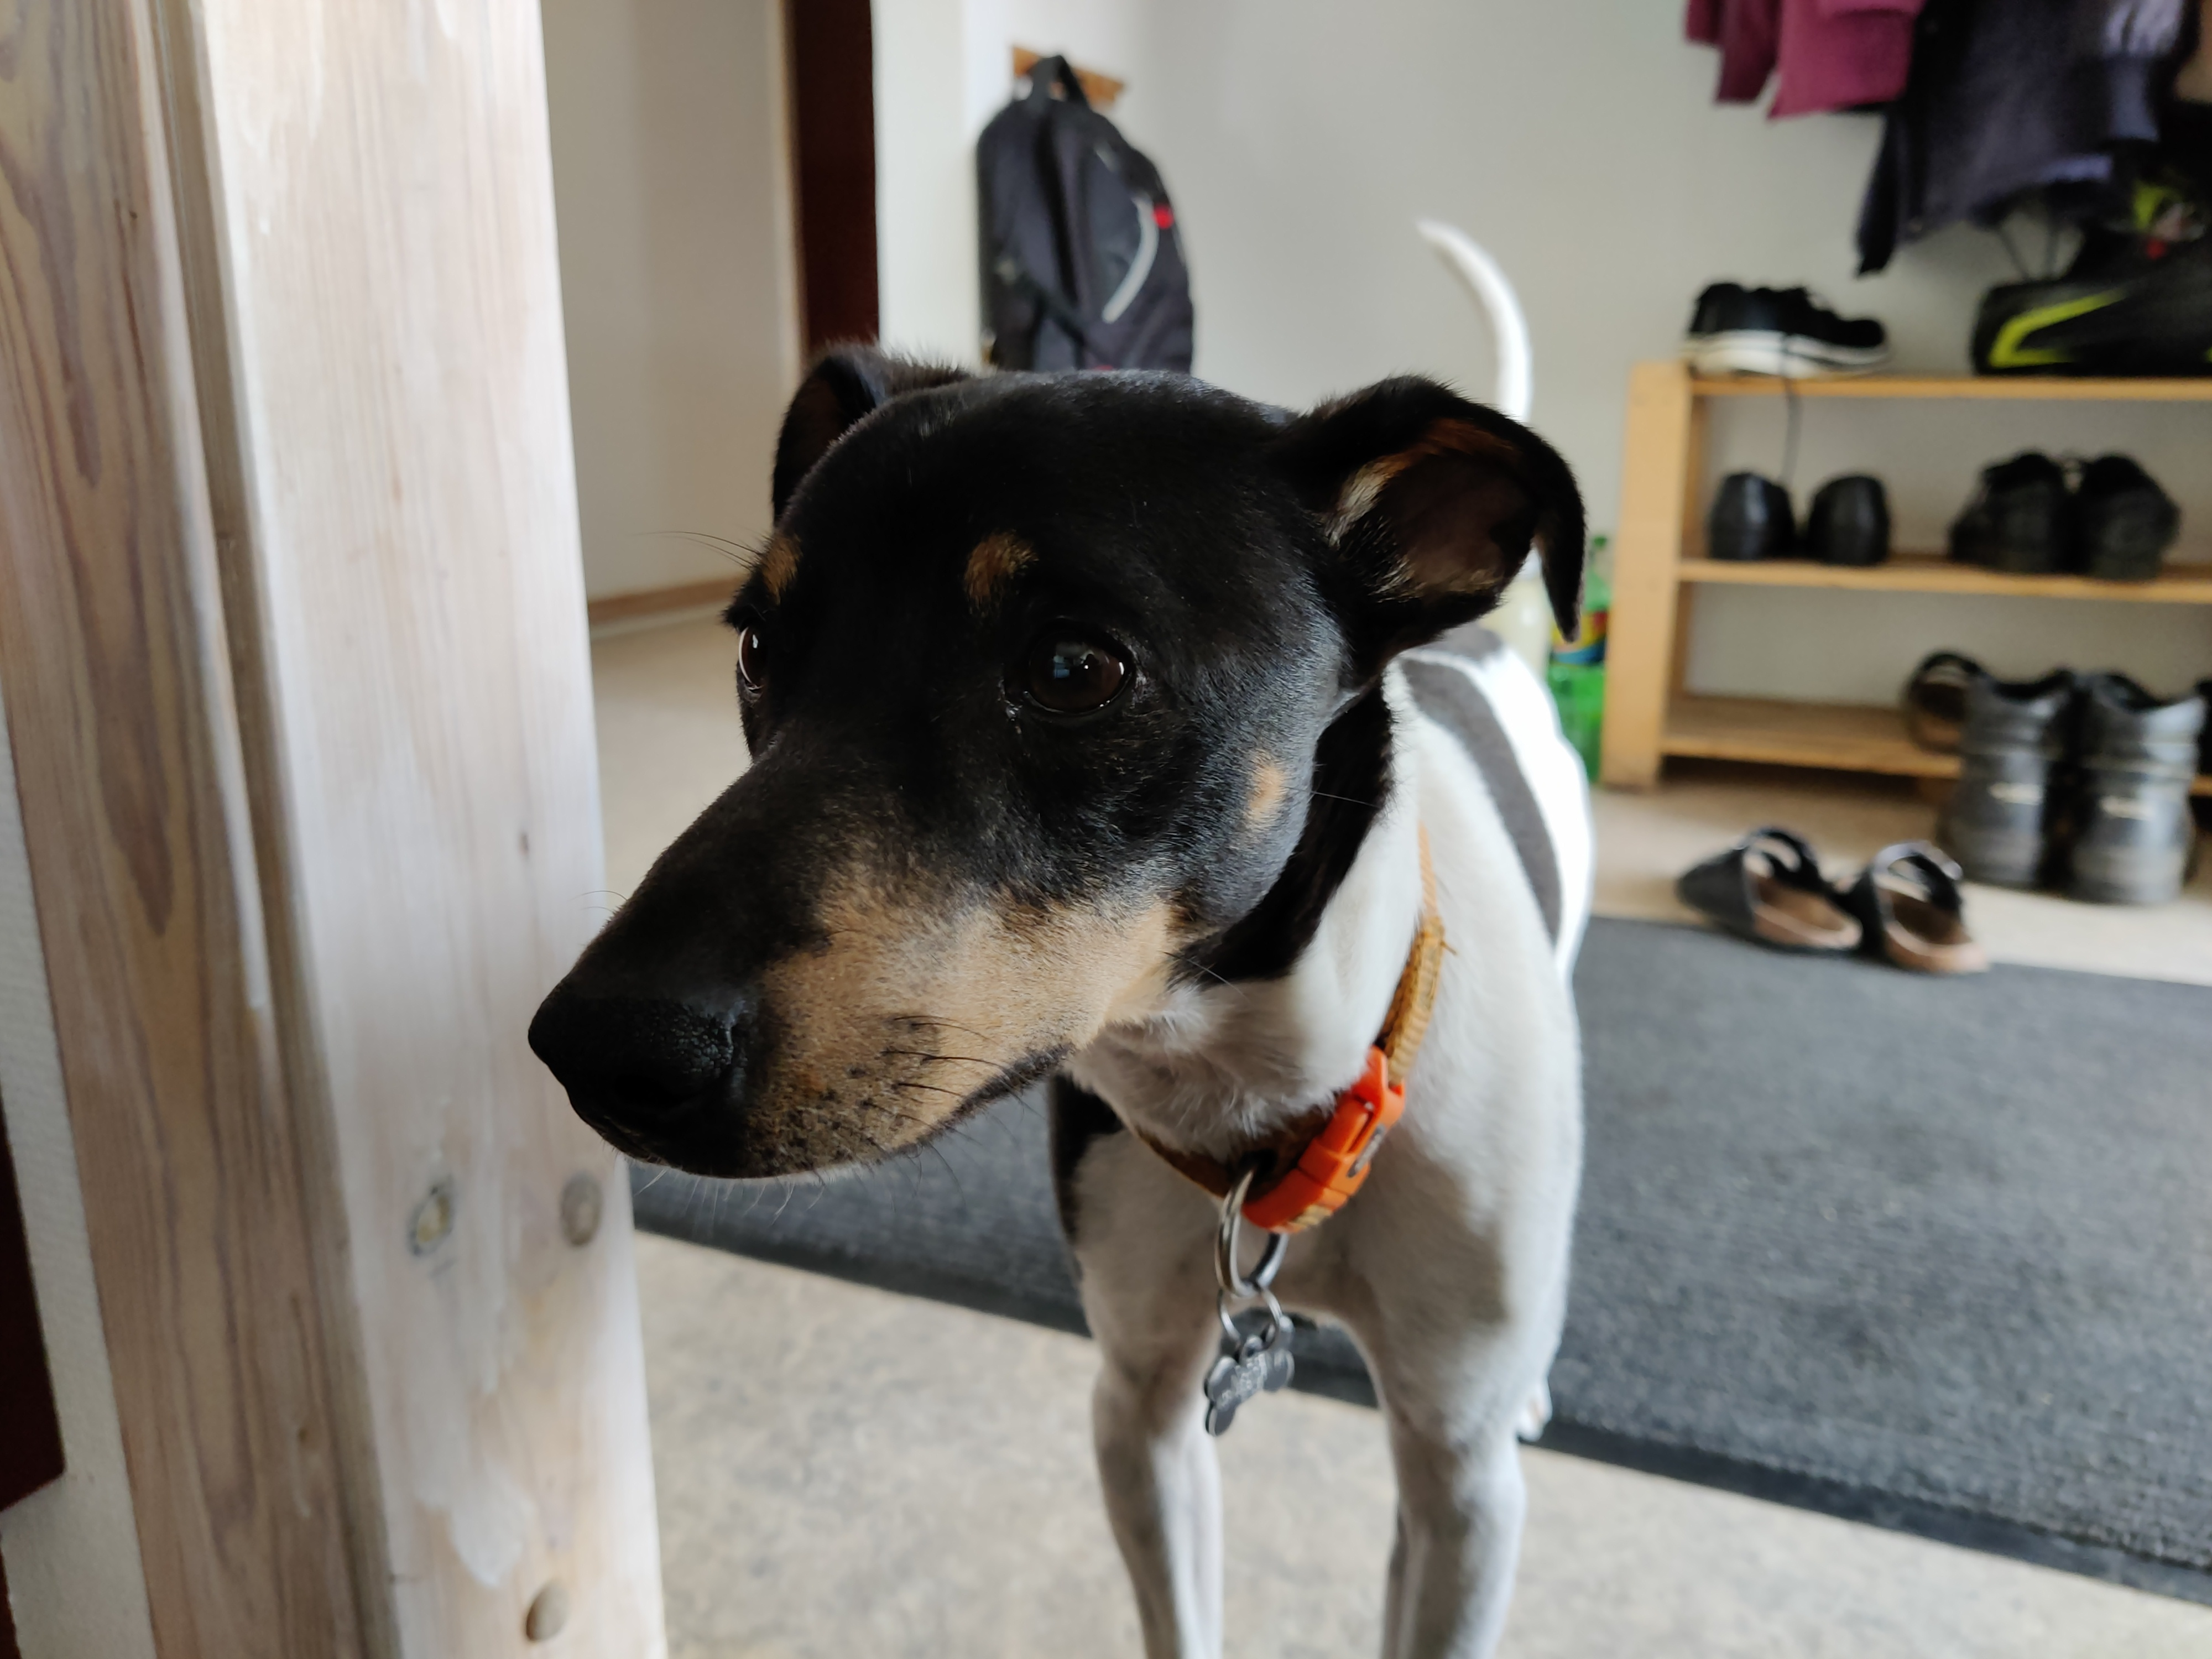Dog: (512, 207, 1604, 1659)
